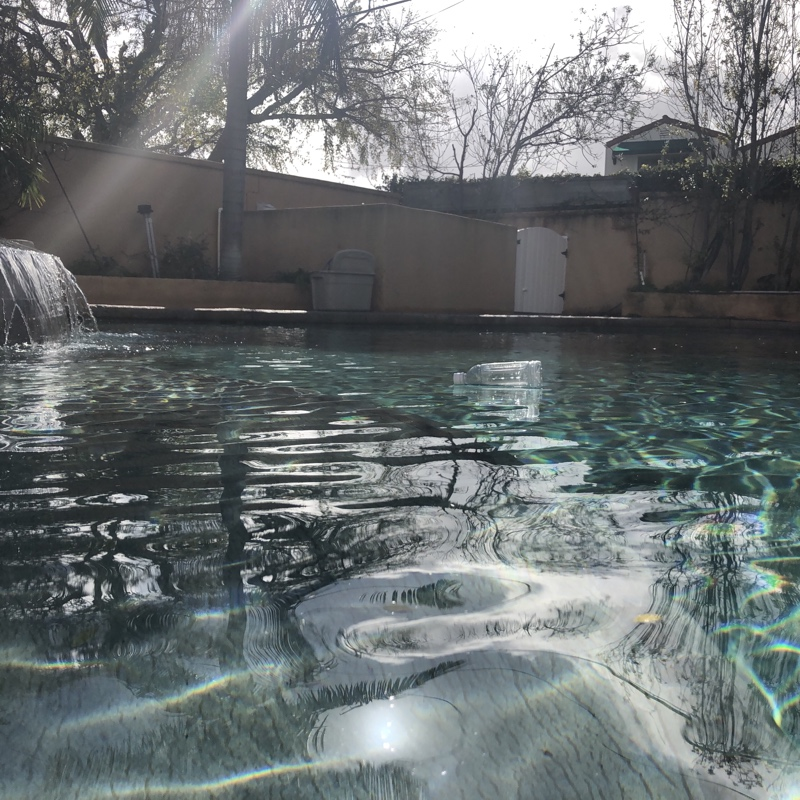Plastic Bottle: (449, 359, 543, 393)
